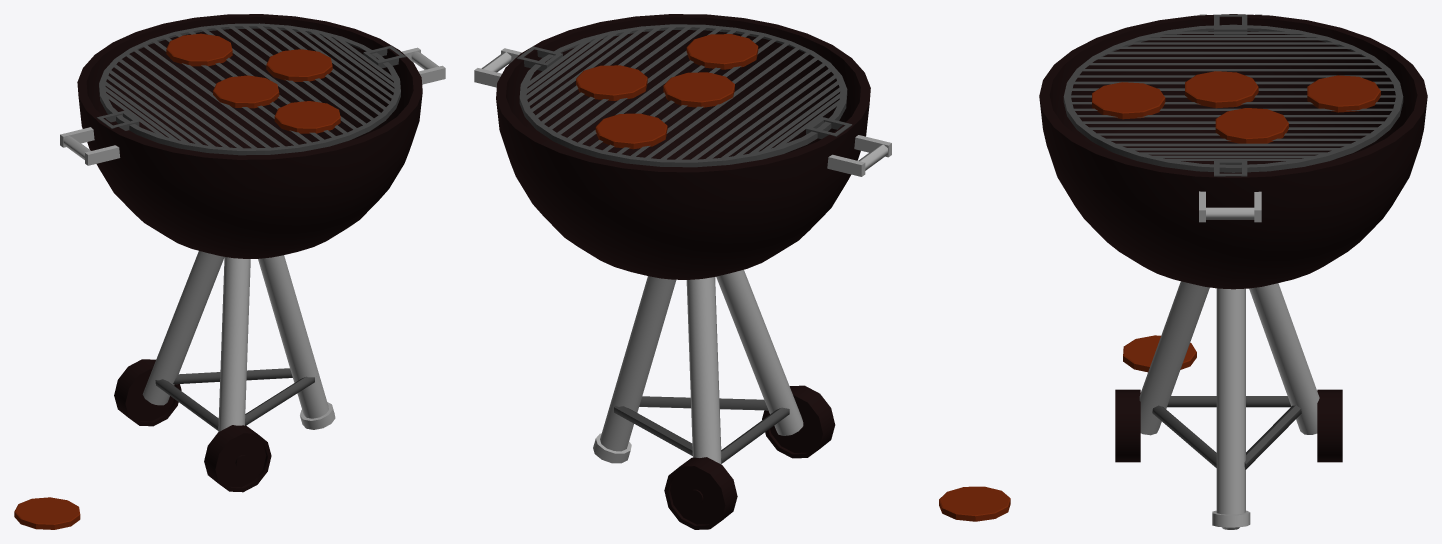
The model's file is Mangal.fbx.
The picture shows the model from 3 angles, left to right: view 1: azimuth 30°, elevation 25°; view 2: azimuth 150°, elevation 25°; view 3: azimuth 270°, elevation 25°; orthographic projection. The views are drawn at different scales.
Visible parts, largest first — view 1: Sphere, Sphere.001, Cylinder.007, Cylinder.004, Cylinder.006, Cylinder.005, Cylinder, Cylinder.008, Cylinder.002, Cylinder.003, Cylinder.001, Cube.001 (+5 smaller); view 2: Sphere, Sphere.001, Cylinder.007, Cylinder.004, Cylinder.005, Cylinder.006, Cylinder, Cylinder.002, Cylinder.008, Cylinder.003, Cylinder.001, Cube.001 (+5 smaller); view 3: Sphere, Sphere.001, Cylinder.004, Cylinder.006, Cylinder.005, Cylinder.007, Cylinder.001, Cylinder.002, Cylinder, Cylinder.003, Cylinder.008, Cylinder.009 (+4 smaller).
Boxes of the visible parts, <box> form: Sphere: <box>77,14,422,258</box>; Sphere.001: <box>99,23,400,155</box>; Cylinder.007: <box>114,359,271,492</box>; Cylinder.004: <box>258,255,335,429</box>; Cylinder.006: <box>218,257,250,431</box>; Cylinder.005: <box>142,251,224,405</box>; Cylinder: <box>274,101,340,133</box>; Cylinder.008: <box>14,497,80,529</box>; Cylinder.002: <box>166,33,232,66</box>; Cylinder.003: <box>266,49,332,81</box>; Cylinder.001: <box>213,75,279,108</box>; Cube.001: <box>60,127,120,165</box>; Sphere: <box>496,14,870,279</box>; Sphere.001: <box>519,24,847,167</box>; Cylinder.007: <box>664,385,835,529</box>; Cylinder.004: <box>593,276,676,463</box>; Cylinder.005: <box>686,277,721,464</box>; Cylinder.006: <box>716,269,803,435</box>; Cylinder: <box>686,34,758,69</box>; Cylinder.002: <box>595,113,667,149</box>; Cylinder.008: <box>939,486,1010,521</box>; Cylinder.003: <box>576,65,647,100</box>; Cylinder.001: <box>663,72,734,107</box>; Cube.001: <box>827,135,891,176</box>; Sphere: <box>1039,14,1427,289</box>; Sphere.001: <box>1063,24,1403,172</box>; Cylinder.004: <box>1212,288,1250,529</box>; Cylinder.006: <box>1139,281,1209,435</box>; Cylinder.005: <box>1249,283,1319,434</box>; Cylinder.007: <box>1115,389,1342,462</box>; Cylinder.001: <box>1185,71,1258,108</box>; Cylinder.002: <box>1307,75,1380,112</box>; Cylinder: <box>1092,82,1165,119</box>; Cylinder.003: <box>1215,108,1288,143</box>; Cylinder.008: <box>1123,335,1196,372</box>; Cylinder.009: <box>1167,396,1291,407</box>.
Size of the model in its own units: 56.46 by 43.44 by 38.07.
